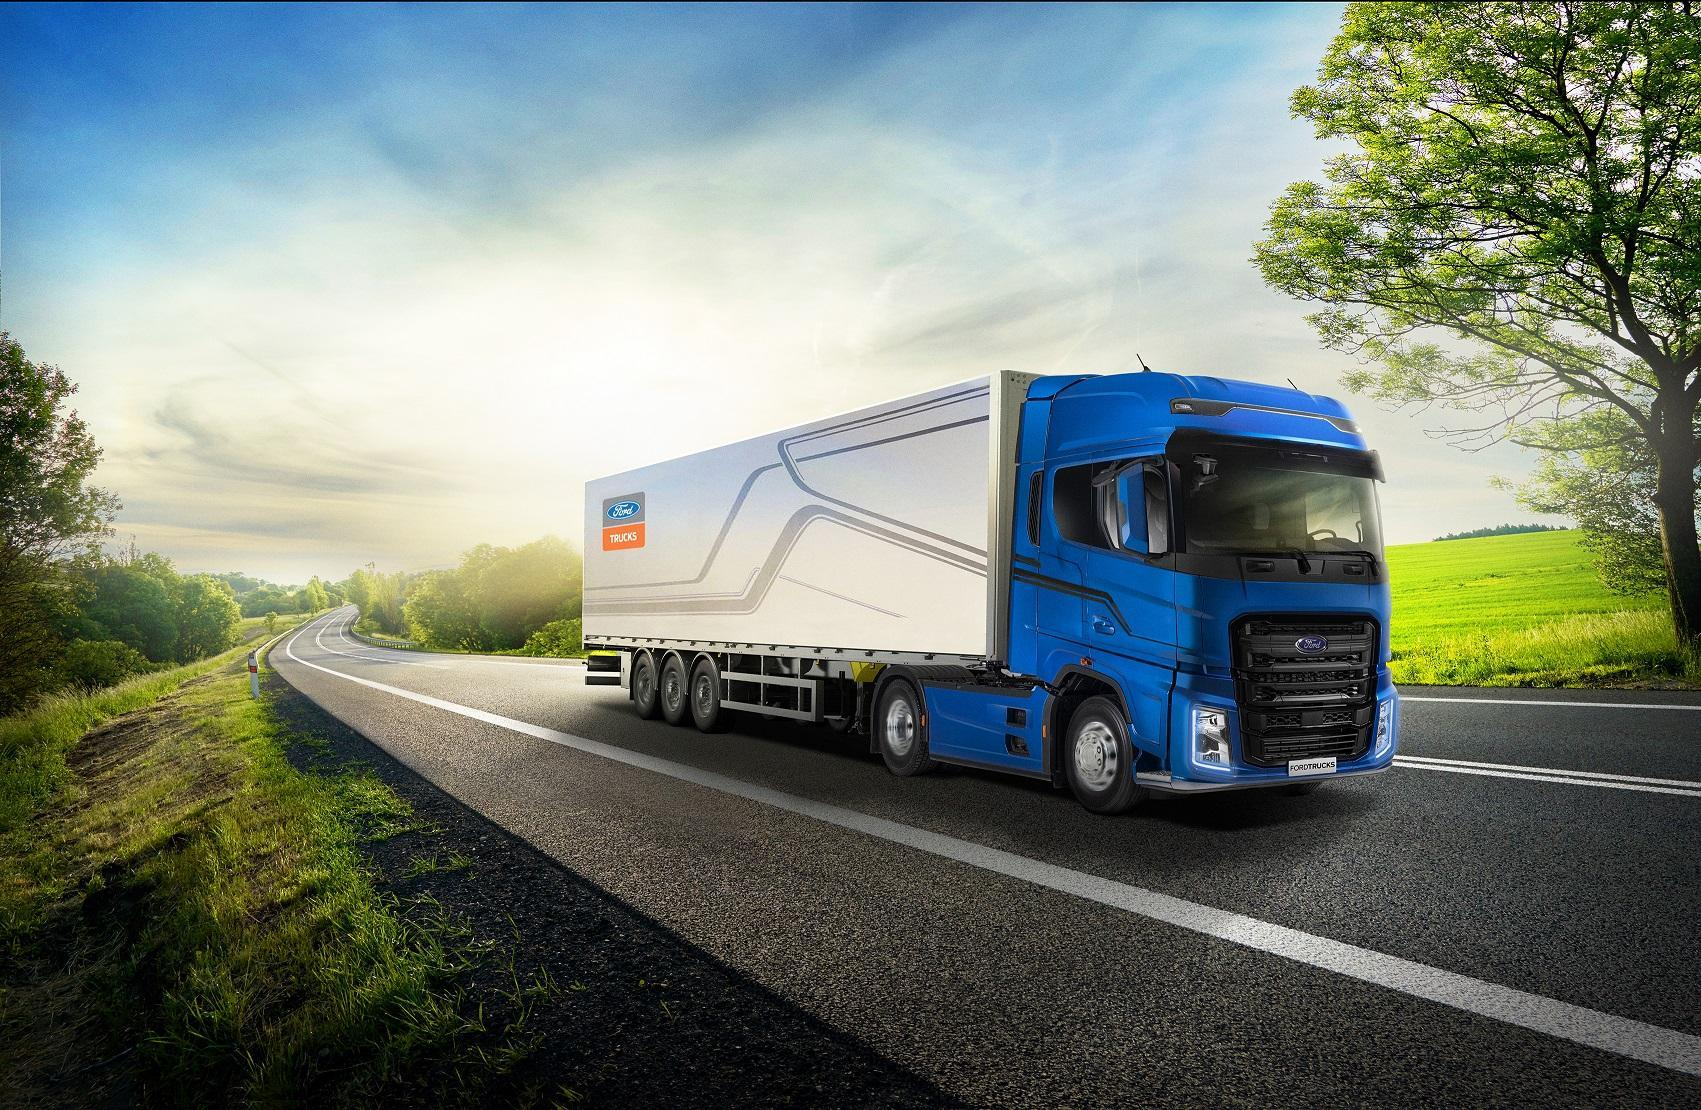truck: (527, 347, 1480, 807)
